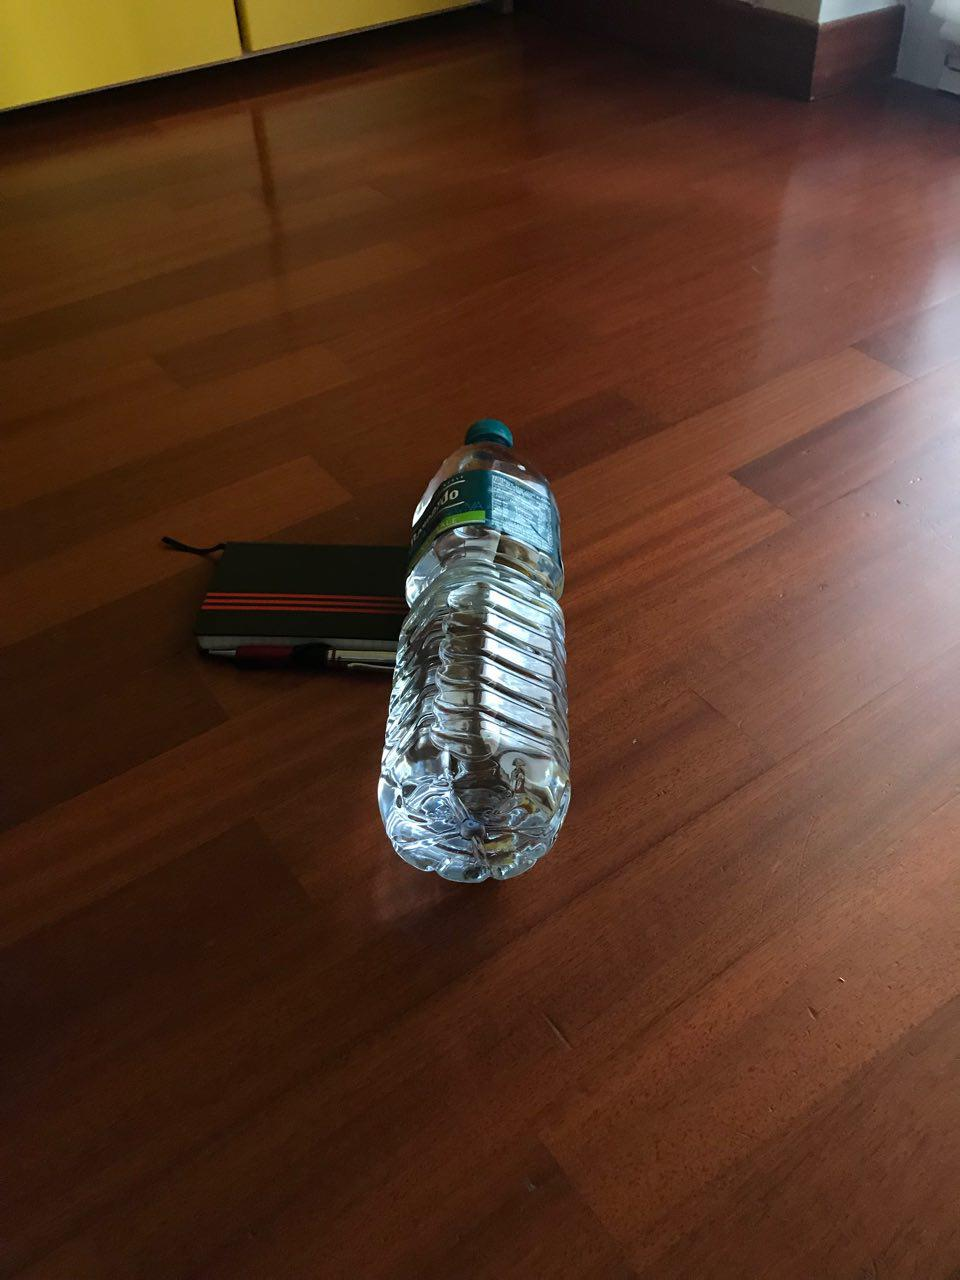san_bernardo: (373, 416, 574, 887)
